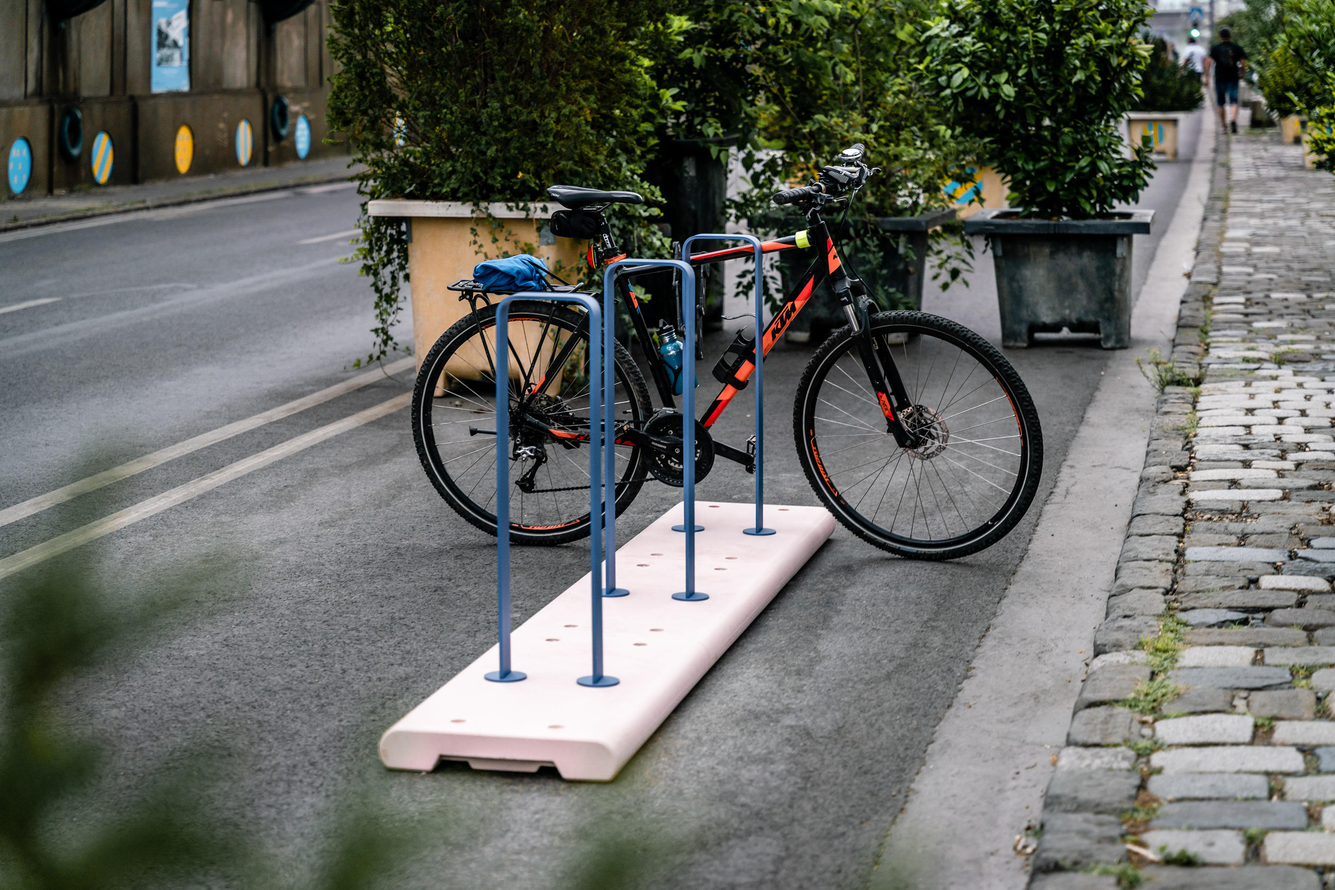Bicycle: (377, 147, 1056, 568)
